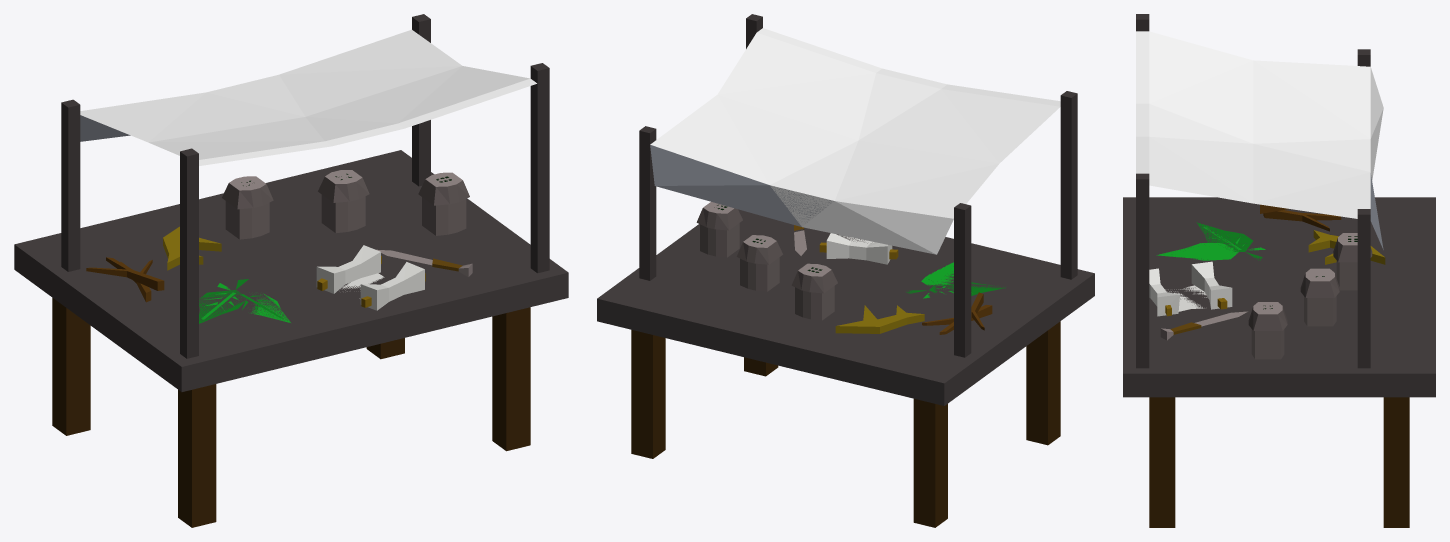
The model's file is obj_spice_stall_2_0.obj.
3 renders of one model, left to right at view 1: azimuth 30°, elevation 25°; view 2: azimuth 150°, elevation 25°; view 3: azimuth 270°, elevation 25°, orthographic. The views are drawn at different scales.
Bounding box in the file's own units: 2 × 1.88 × 1.5.
